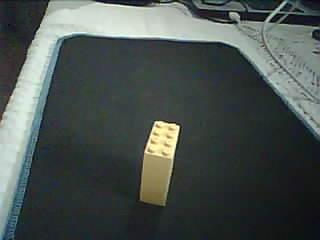lego: (138, 119, 180, 206)
